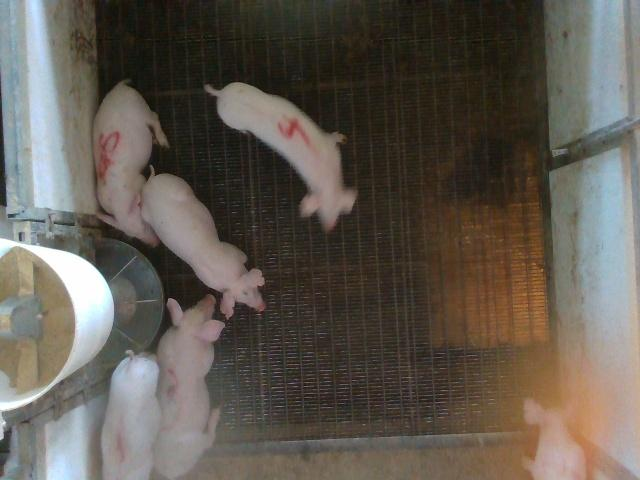pig-1: (101, 351, 161, 479)
pig-3: (154, 295, 225, 478)
pig-4: (205, 82, 358, 231)
pig-5: (94, 80, 169, 247)
